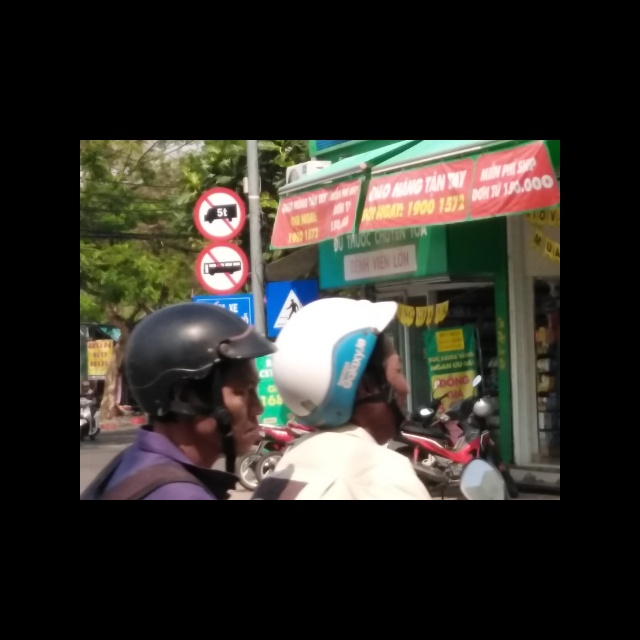Cấm xe tải: (191, 187, 248, 241)
Cấm xe xe khách: (195, 242, 251, 296)
